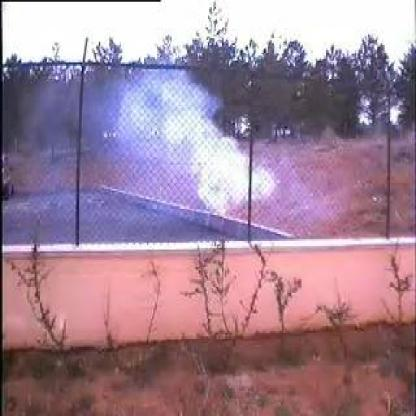-: (83, 59, 278, 244)
